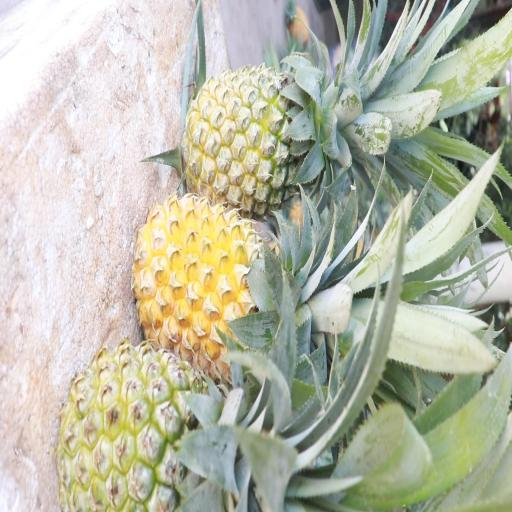------------------------------: (59, 352, 231, 512), (178, 66, 328, 209)
Pineapple - v8 v1: (132, 199, 303, 359)
